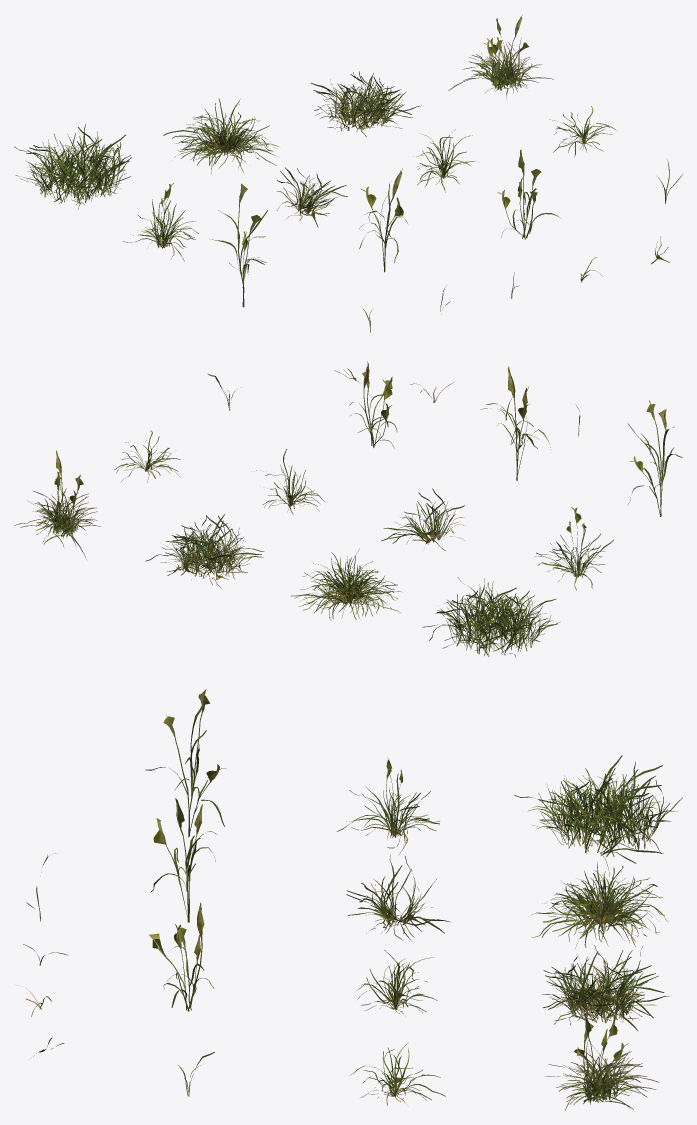
The model's file is grass_medium_01_1k.glb.
3 renders of one model, top to bottom at view 1: azimuth 30°, elevation 25°; view 2: azimuth 150°, elevation 25°; view 3: azimuth 270°, elevation 25°, orthographic. The views are drawn at different scales.
Size of the model in its own units: 1.46 by 0.3426 by 1.3.
1 material, 1 textured.
